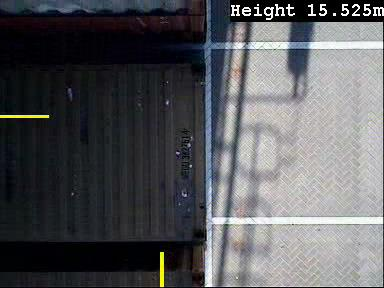groundmarker_2: (187, 84, 226, 139)
